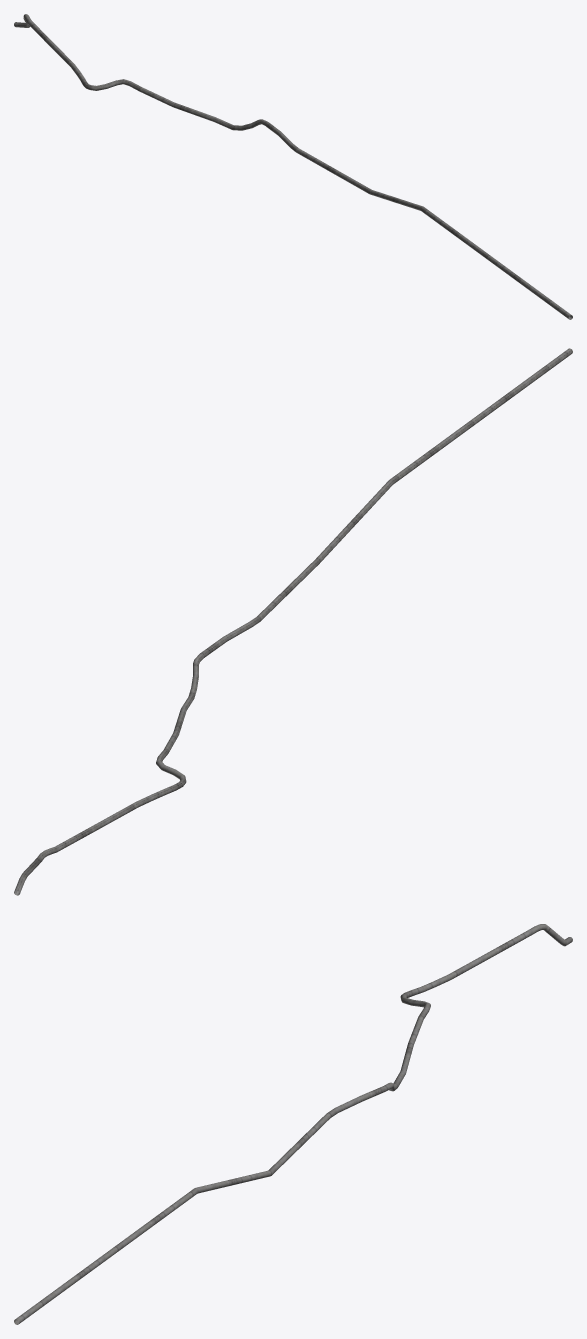
3 views of the same model, one above another, from view 1: azimuth 30°, elevation 25°; view 2: azimuth 150°, elevation 25°; view 3: azimuth 330°, elevation 25° (orthographic). The views are drawn at different scales.
Visible parts, largest first — view 1: Cube.012; view 2: Cube.012; view 3: Cube.012.
Part boxes in pixels (box(x1,y1,x2,y2)): Cube.012: box(14, 14, 572, 319); Cube.012: box(14, 348, 572, 895); Cube.012: box(14, 924, 572, 1324).
Bounding box in the file's own units: 1137 × 855 × 11126.
